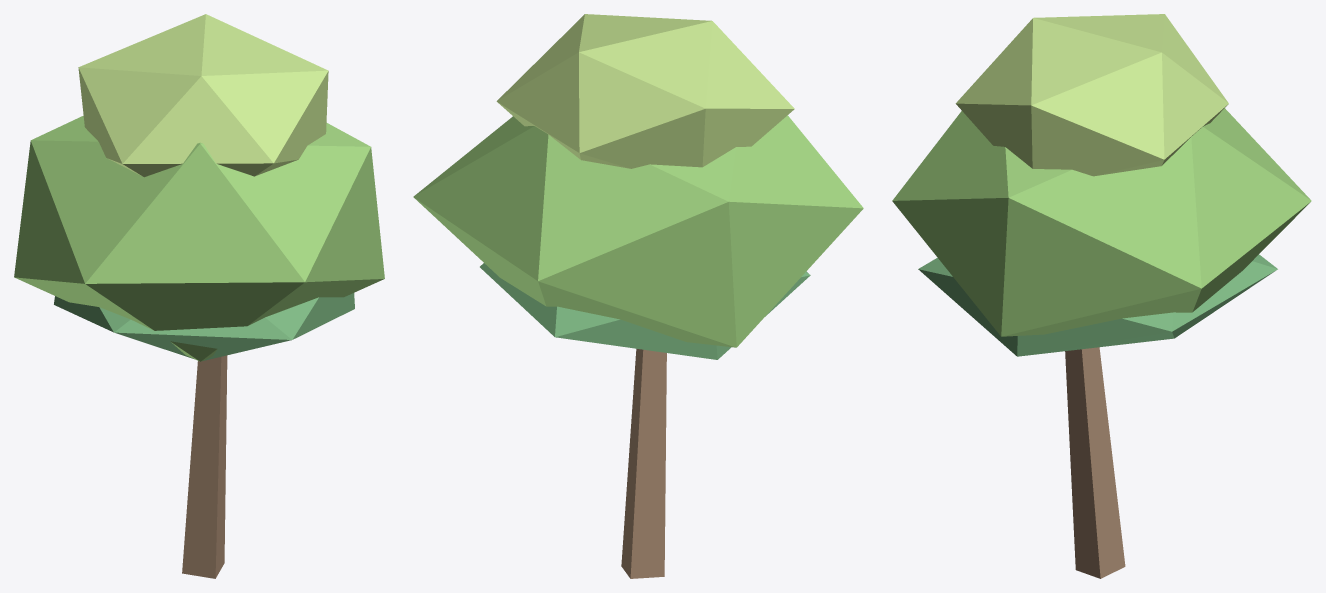
File: arvore_copa_2_lod.fbx
The picture shows the model from 3 angles, left to right: view 1: azimuth 30°, elevation 25°; view 2: azimuth 150°, elevation 25°; view 3: azimuth 270°, elevation 25°; orthographic projection.
Visible parts, largest first — view 1: arvore_copa_2_lod~Copa@leaf, arvore_copa_2_lod~Copa 0@leaflight, arvore_copa_2_lod~Tronco@bark, arvore_copa_2_lod~Copa 1@leafdark; view 2: arvore_copa_2_lod~Copa@leaf, arvore_copa_2_lod~Copa 0@leaflight, arvore_copa_2_lod~Tronco@bark, arvore_copa_2_lod~Copa 1@leafdark; view 3: arvore_copa_2_lod~Copa@leaf, arvore_copa_2_lod~Copa 0@leaflight, arvore_copa_2_lod~Tronco@bark, arvore_copa_2_lod~Copa 1@leafdark.
Part boxes in pixels (left/top/right/bottom): arvore_copa_2_lod~Copa@leaf: left=14, top=115, right=384, bottom=361; arvore_copa_2_lod~Copa 0@leaflight: left=78, top=14, right=328, bottom=177; arvore_copa_2_lod~Tronco@bark: left=182, top=355, right=227, bottom=578; arvore_copa_2_lod~Copa 1@leafdark: left=54, top=293, right=354, bottom=361; arvore_copa_2_lod~Copa@leaf: left=413, top=115, right=863, bottom=347; arvore_copa_2_lod~Copa 0@leaflight: left=496, top=14, right=794, bottom=168; arvore_copa_2_lod~Tronco@bark: left=621, top=348, right=666, bottom=578; arvore_copa_2_lod~Copa 1@leafdark: left=480, top=263, right=810, bottom=359; arvore_copa_2_lod~Copa@leaf: left=892, top=108, right=1311, bottom=336; arvore_copa_2_lod~Copa 0@leaflight: left=955, top=14, right=1228, bottom=176; arvore_copa_2_lod~Tronco@bark: left=1065, top=347, right=1125, bottom=578; arvore_copa_2_lod~Copa 1@leafdark: left=918, top=254, right=1277, bottom=356.
Size of the model in its own units: 10.02 by 14.68 by 10.44.
